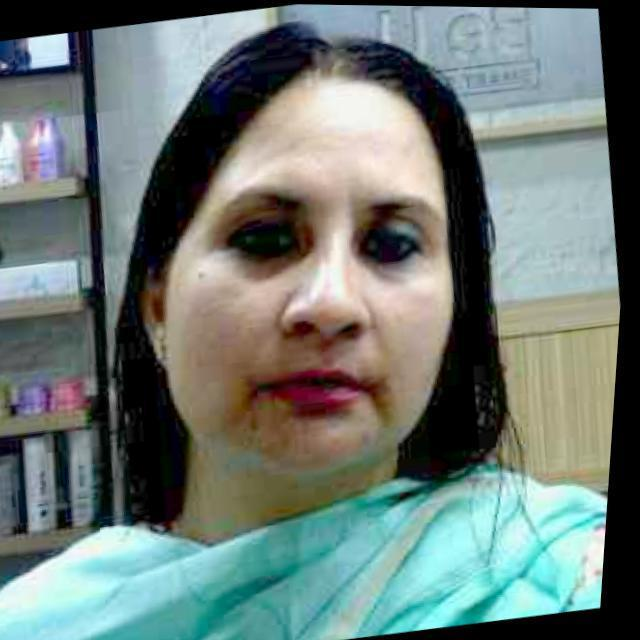puffy_eyes: (360, 255, 425, 280), (240, 256, 306, 279)
